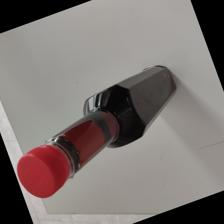Namngu: (17, 64, 178, 199)
